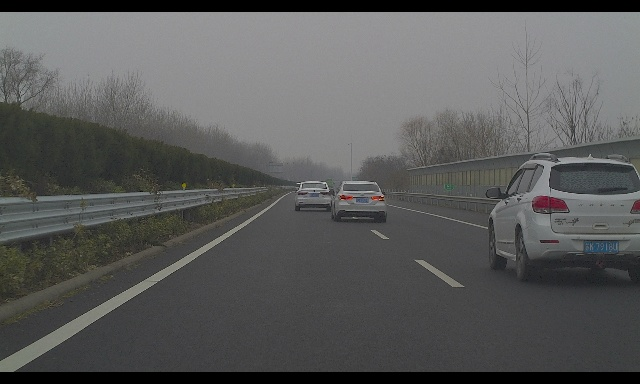bus: (325, 178, 333, 188)
car: (485, 153, 640, 283), (328, 181, 387, 222), (292, 181, 334, 211)
